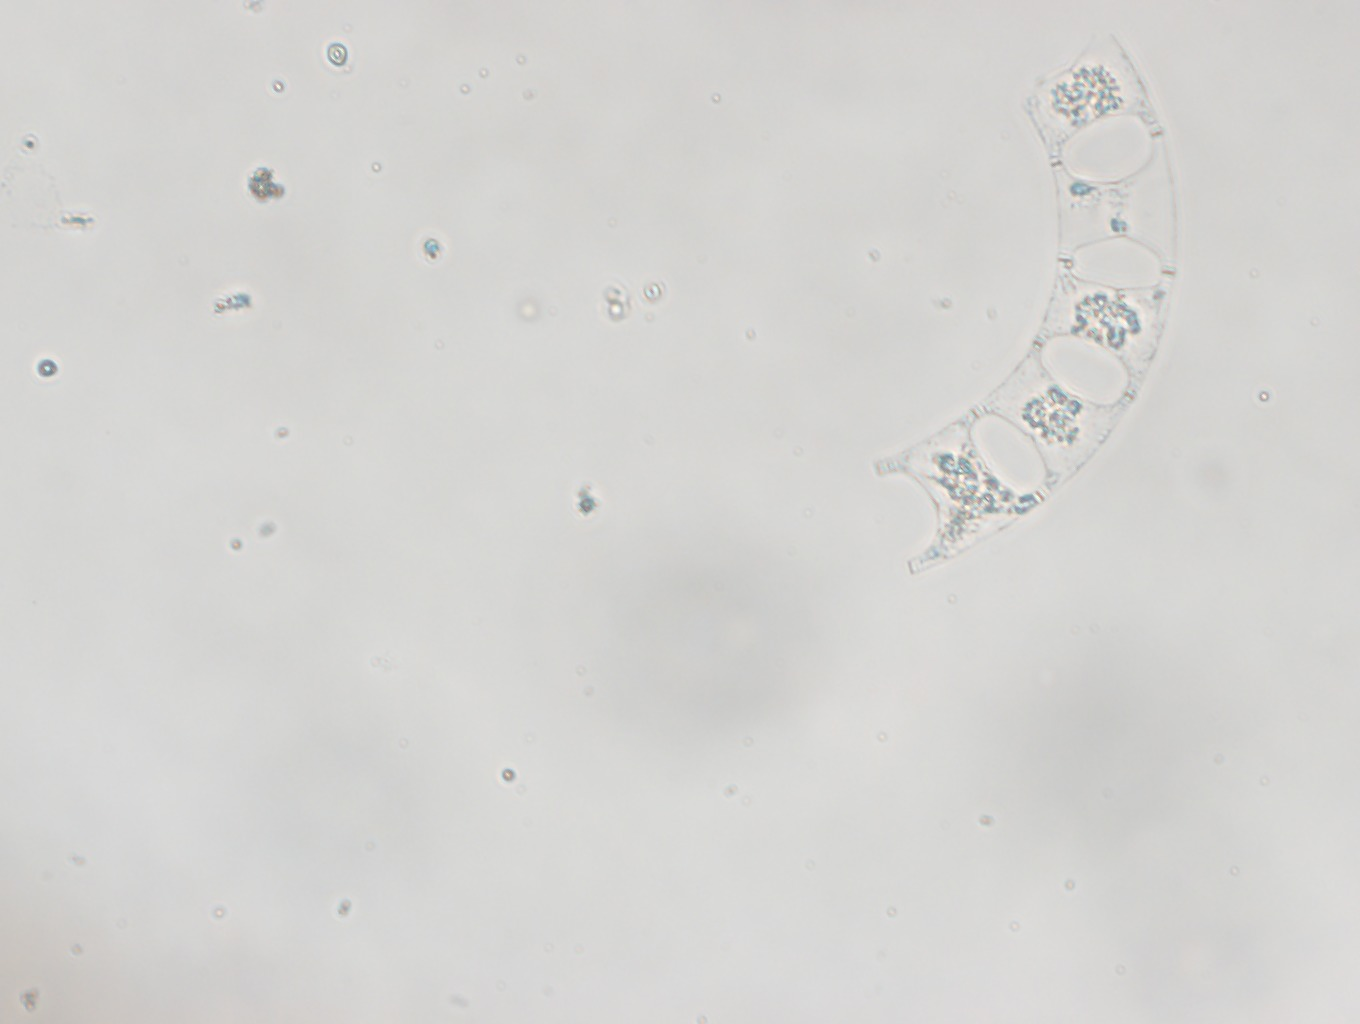eucampia: (876, 37, 1185, 578)
